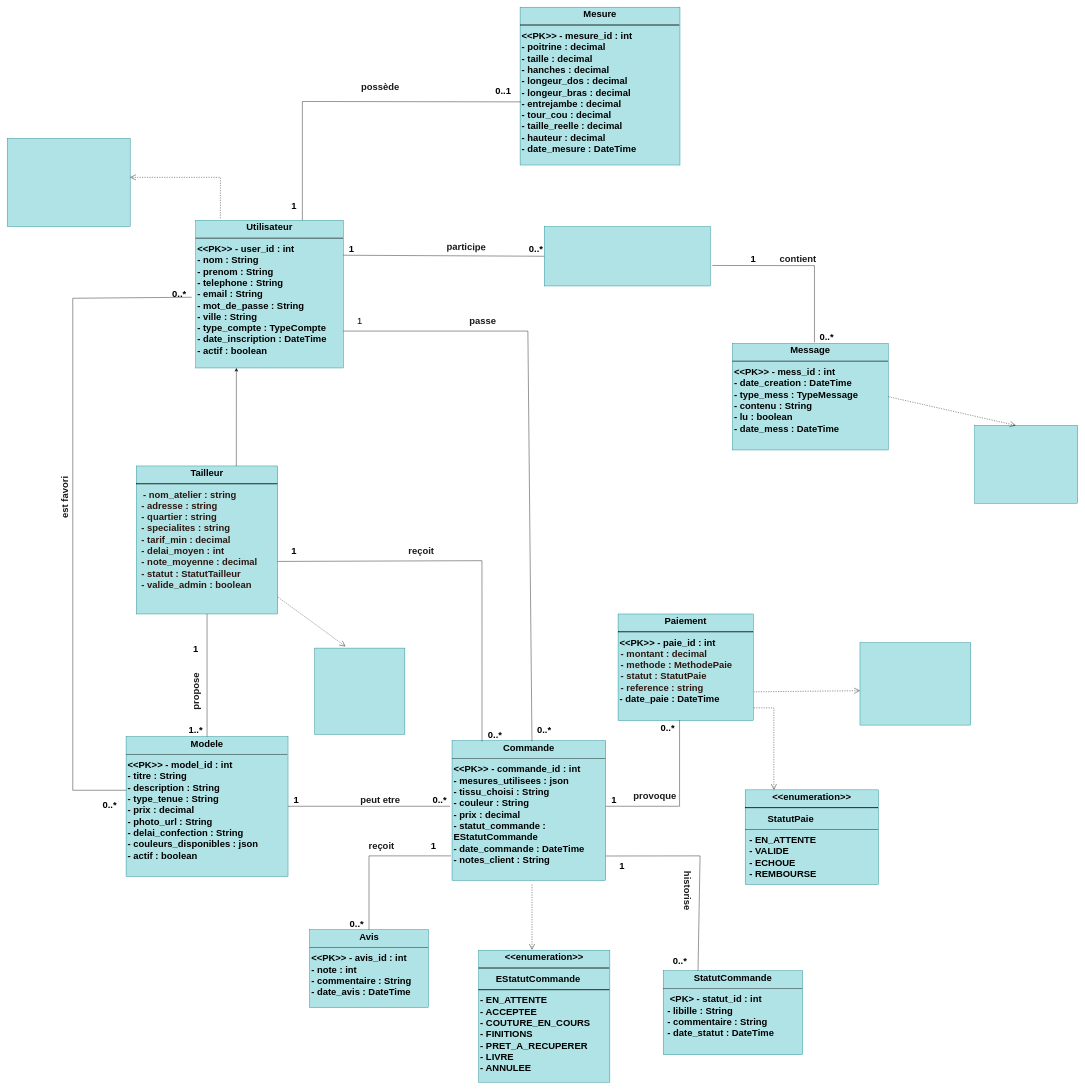
Image size: 1085x1089. Some labels were removed from this diagram. Each missing label, with the centre of its shape:
"<<enumeration>> MethodePaie - MOBILE_MONEY - CARTE_BANCAIRE" belongs at point (915, 683).
"<<enumeration>> StatutTailleur -ACTIF -EN_CONGE -SUSPENDU" belongs at point (359, 691).
"<<enumeration>> TypeCompte -CLIENT -TAILLEUR -ADMIN" belongs at point (68, 182).
"<<enumeration>> TypeMessage - TEXTE - AUDIO" belongs at point (1026, 464).
"Conversation <<PK>> - conversation_id : int - date_creation : DateTime" belongs at point (627, 256).
